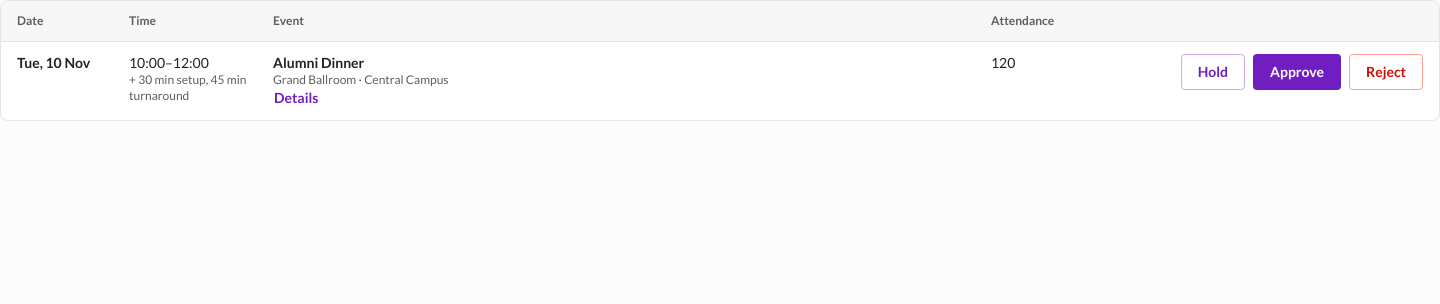
Test case: VenueRequestRows › AC5: refuses to reject without a reason
Step 1. Click the button "Reject" → click(1386, 72), box x1=1349 y1=54 x2=1423 y2=90
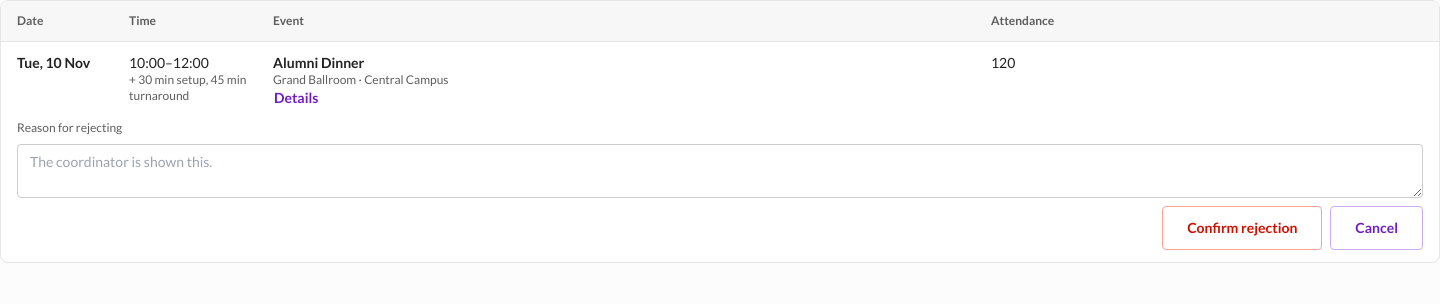
Step 2. Click the button "Confirm rejection" → click(1242, 228), box x1=1162 y1=206 x2=1322 y2=250
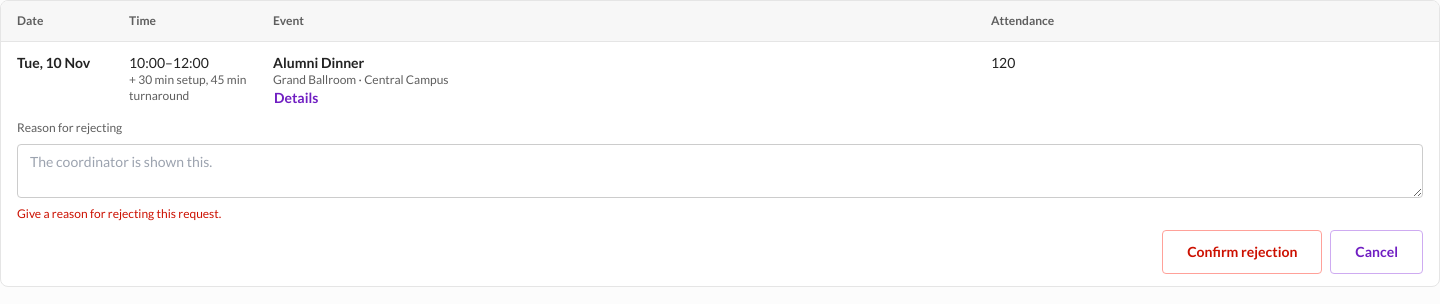
Now the text "Give a reason for rejecting this request." is shown, box x1=17 y1=206 x2=221 y2=221
